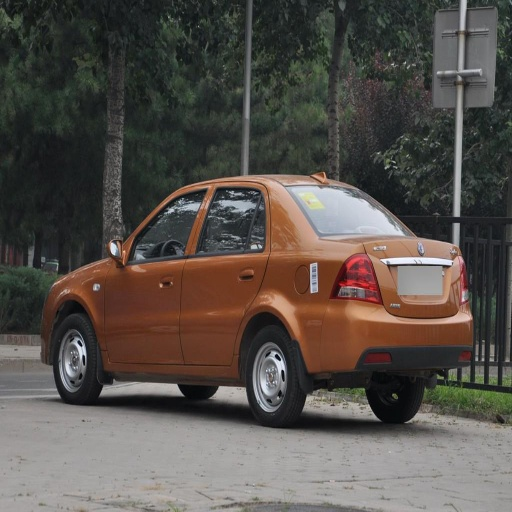back_bumper: (302, 299, 472, 375)
back_glass: (287, 184, 408, 234)
back_left_door: (182, 184, 269, 363)
